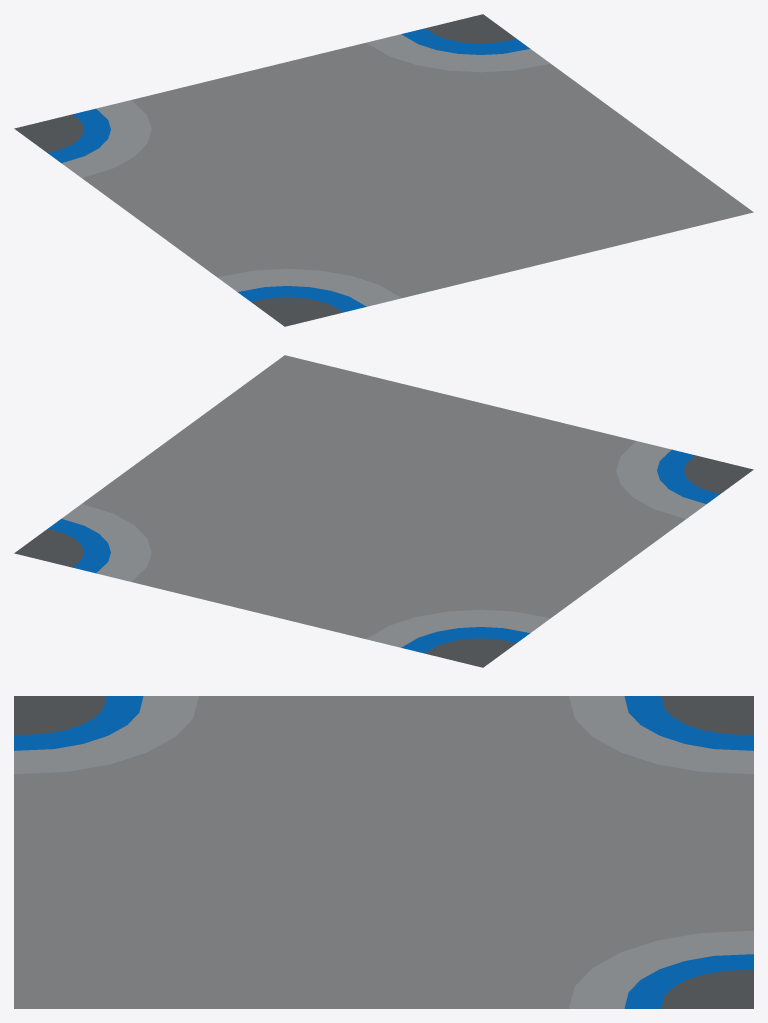
File: Ceiling_type_B_017.fbx
3 views of the same model, one above another, from view 1: azimuth 30°, elevation 25°; view 2: azimuth 150°, elevation 25°; view 3: azimuth 270°, elevation 25° (orthographic). The views are drawn at different scales.
Visible parts, largest first — view 1: Ceiling_type_B_017; view 2: Ceiling_type_B_017; view 3: Ceiling_type_B_017.
Boxes of the visible parts, x1,y1,x2,y2 form: Ceiling_type_B_017: (14,14,753,326); Ceiling_type_B_017: (14,355,753,667); Ceiling_type_B_017: (14,696,753,1008).
Bounding box in the file's own units: 400 × 400 × 5.7.
